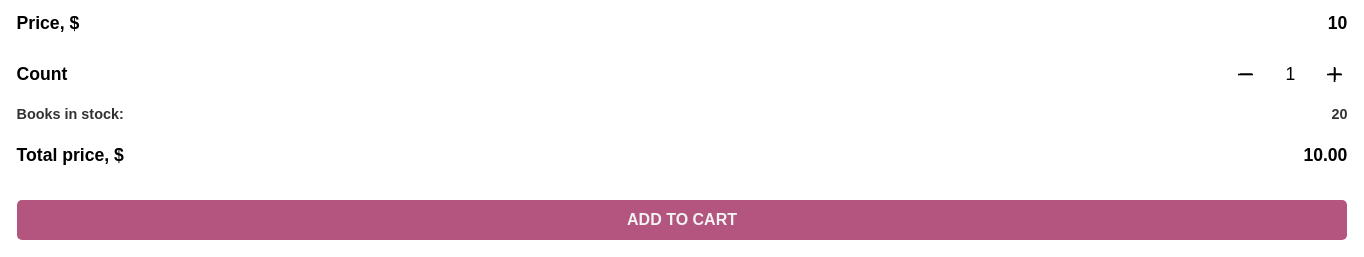
Test case: AddToCart Component › should increase the amount after clicking on the increase button
Click the button with test id "increase-btn" at (1335, 74), box [1322, 62, 1347, 87]
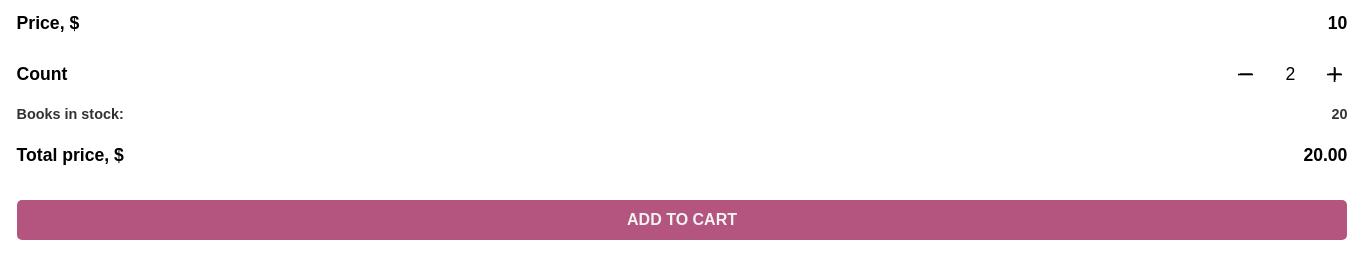
Expected: the number field with test id "amount" holds "2", [1266, 52, 1314, 96]
